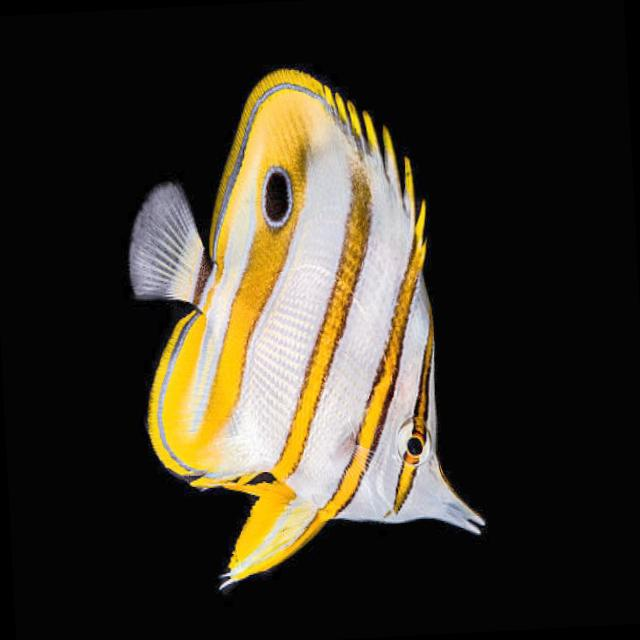ButterflyFish: (114, 52, 488, 594)
